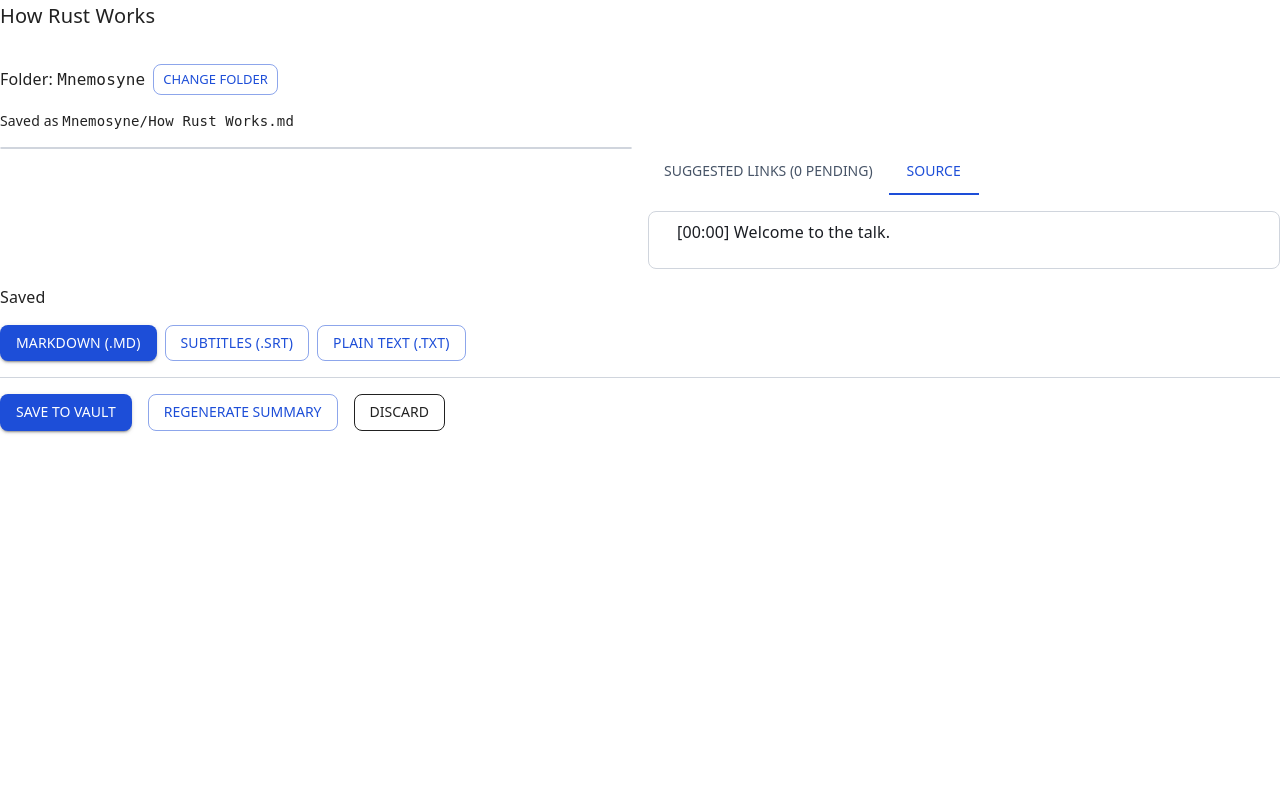
Test: ReviewScreen regenerate › shows the server message and keeps the dialog open when it fails
Click the button "Regenerate summary".
click(243, 413)  # box [148,394,338,431]
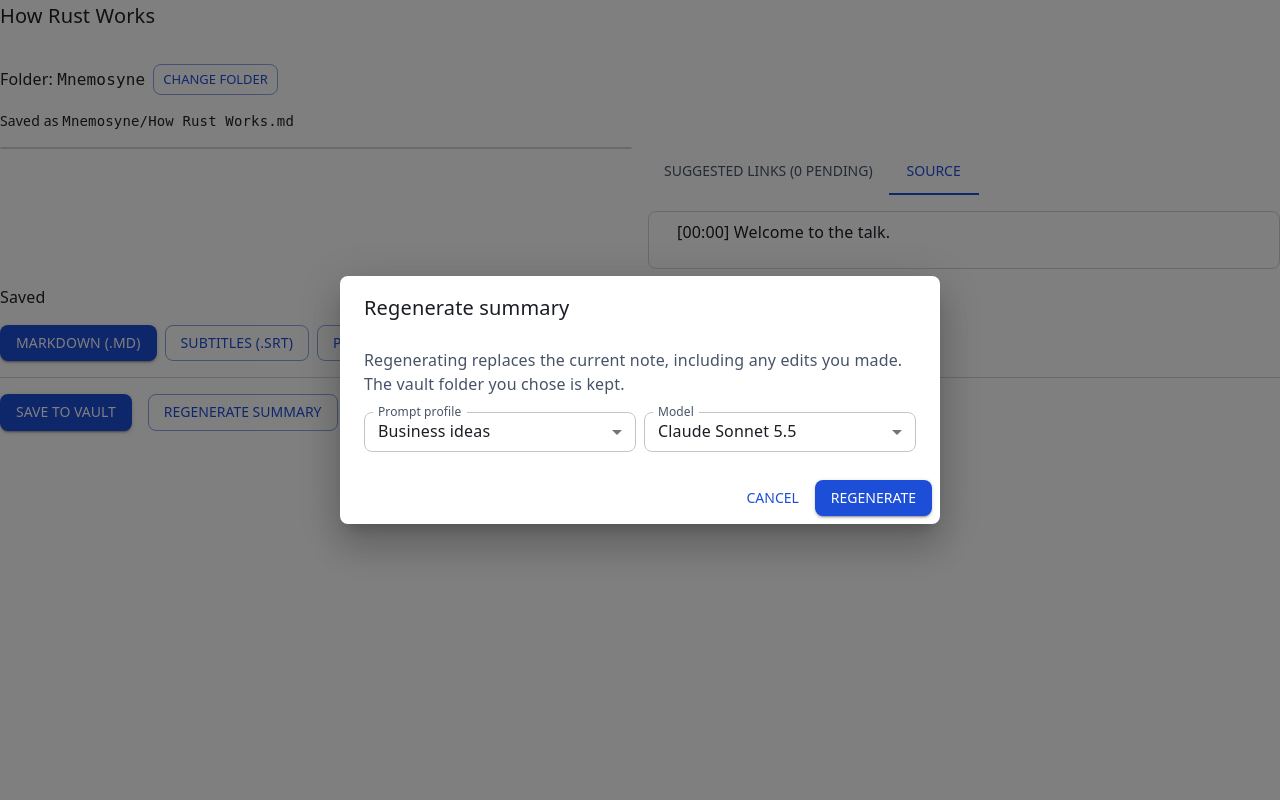
Click the button "Regenerate".
click(873, 498)  # box [815,480,932,516]
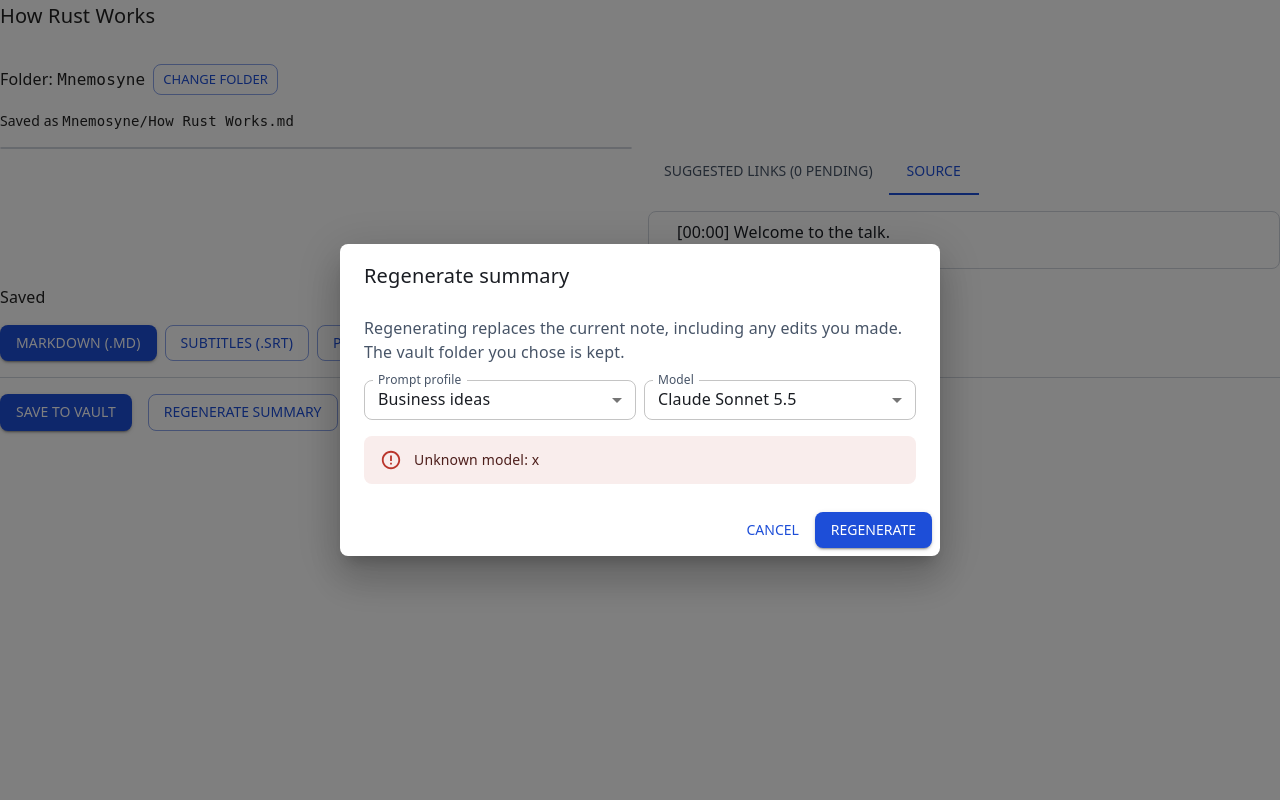
Expected: the message reads "Unknown model: x", [414,450,539,469]
